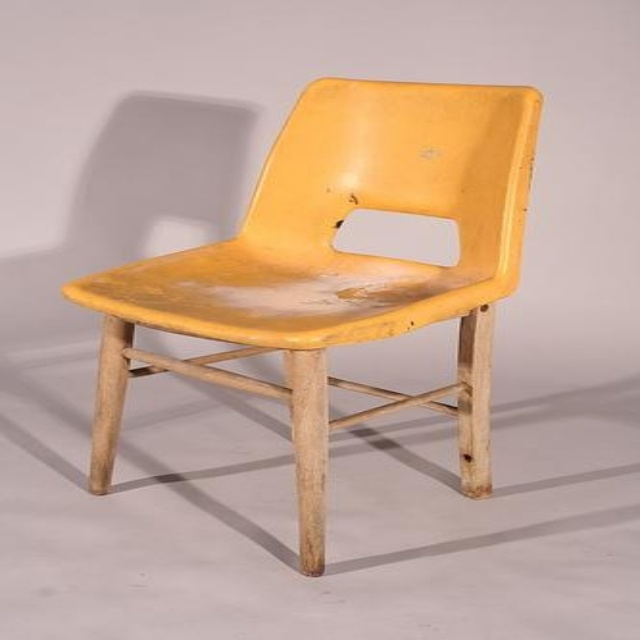obstacle: (63, 78, 540, 575)
